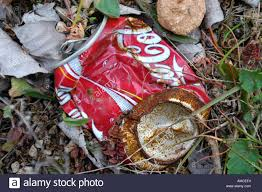Coca-Cola: (120, 28, 189, 96)
